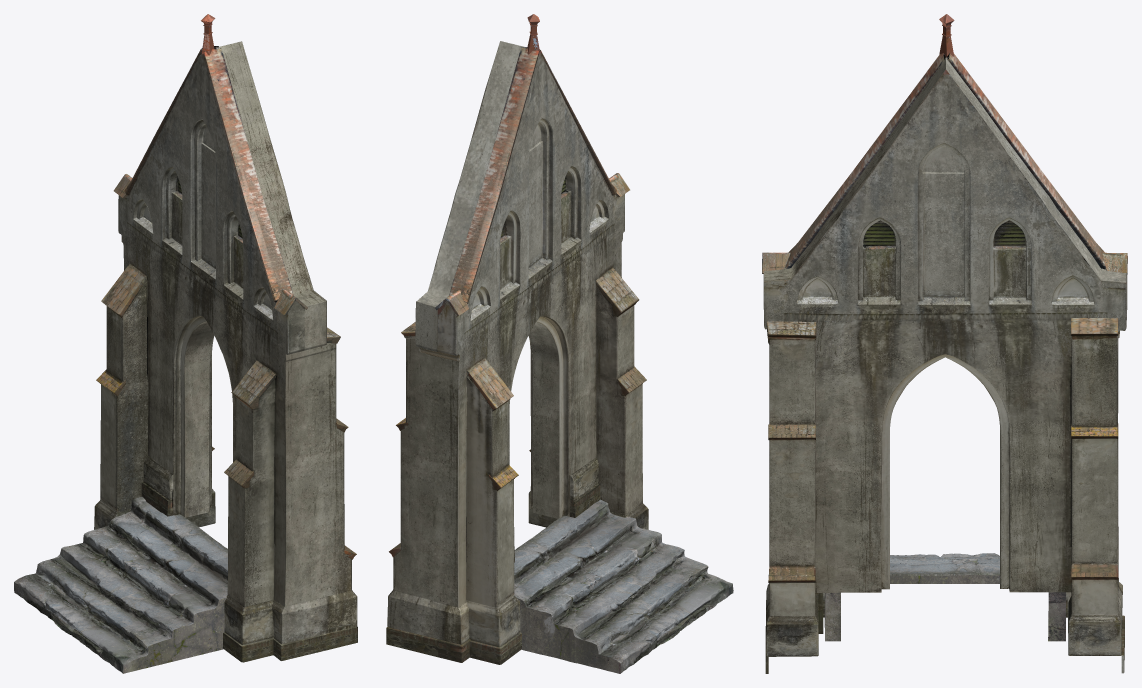
File: sm_Church_01_28.fbx
The picture shows the model from 3 angles, left to right: view 1: azimuth 30°, elevation 25°; view 2: azimuth 150°, elevation 25°; view 3: azimuth 270°, elevation 25°; orthographic projection. The views are drawn at different scales.
Visible parts, largest first — view 1: sm_Church_01_28_LOD0; view 2: sm_Church_01_28_LOD0; view 3: sm_Church_01_28_LOD0.
Part boxes in pixels (x1,y1,x2,y2): sm_Church_01_28_LOD0: (14, 14, 357, 673); sm_Church_01_28_LOD0: (386, 14, 733, 673); sm_Church_01_28_LOD0: (762, 14, 1127, 673).
Size of the model in its own units: 252 by 356 by 672.
